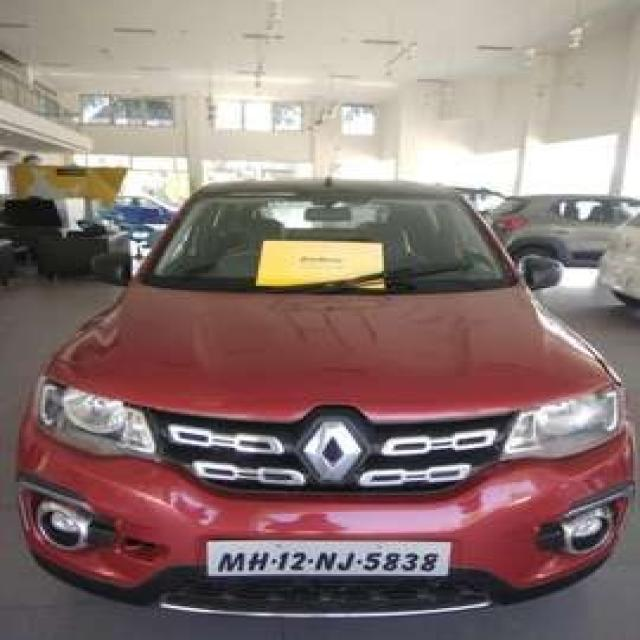licenseplate: (207, 539, 446, 577)
